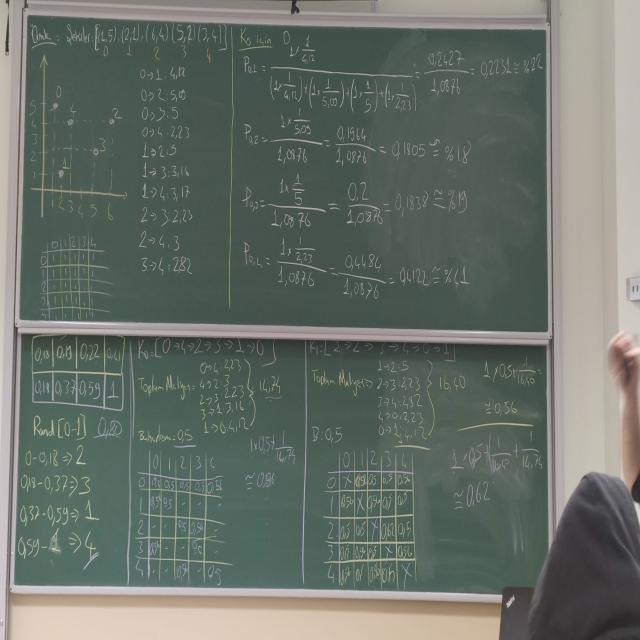image: (28, 52, 134, 228), (325, 448, 420, 592), (134, 447, 228, 588), (30, 335, 127, 411), (37, 231, 108, 323)
math: (238, 24, 422, 119), (17, 414, 126, 560), (137, 60, 198, 285), (243, 239, 391, 306), (241, 171, 387, 231), (448, 426, 544, 516), (239, 106, 381, 164), (374, 360, 469, 442), (192, 360, 281, 433), (426, 47, 543, 99), (93, 21, 230, 54), (475, 349, 539, 418), (137, 336, 276, 366), (310, 339, 460, 366), (390, 131, 474, 175), (245, 430, 299, 497), (391, 185, 473, 224), (400, 259, 472, 293), (308, 420, 344, 448)
text: (28, 18, 92, 53), (311, 364, 374, 396), (138, 374, 192, 398), (136, 425, 193, 446)
